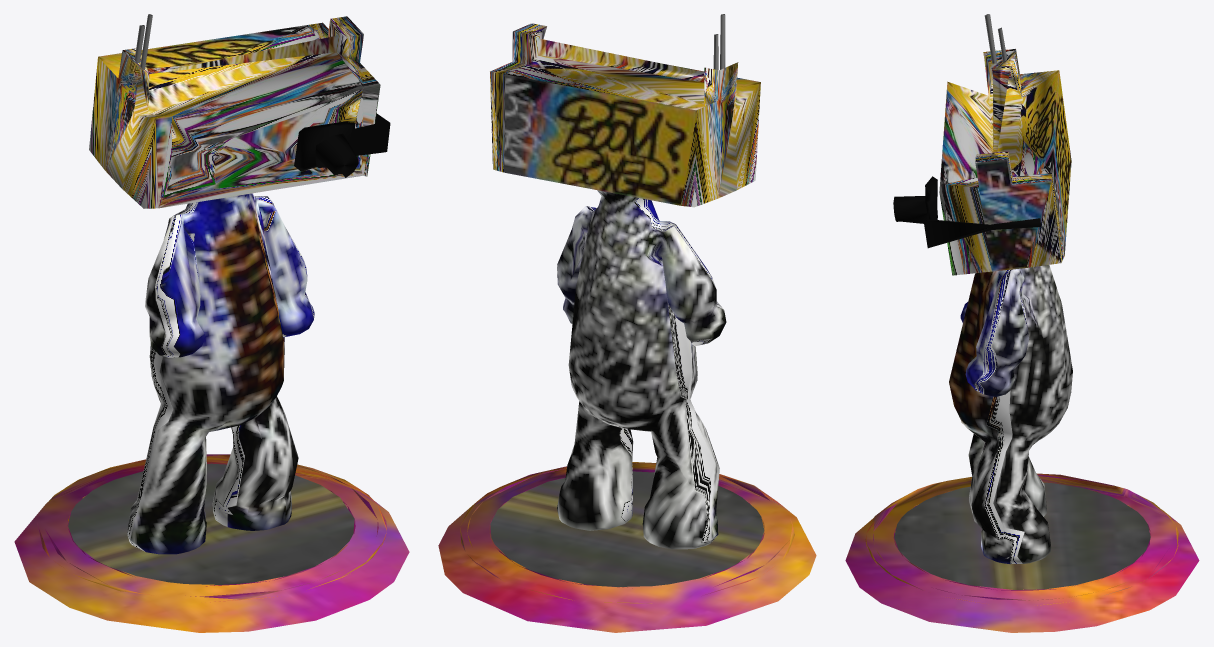
3 renders of one model, left to right at view 1: azimuth 30°, elevation 25°; view 2: azimuth 150°, elevation 25°; view 3: azimuth 270°, elevation 25°, orthographic. The views are drawn at different scales.
Size of the model in its own units: 1.44 by 2.29 by 1.45.
Materials: 6 (4 with a texture image).
